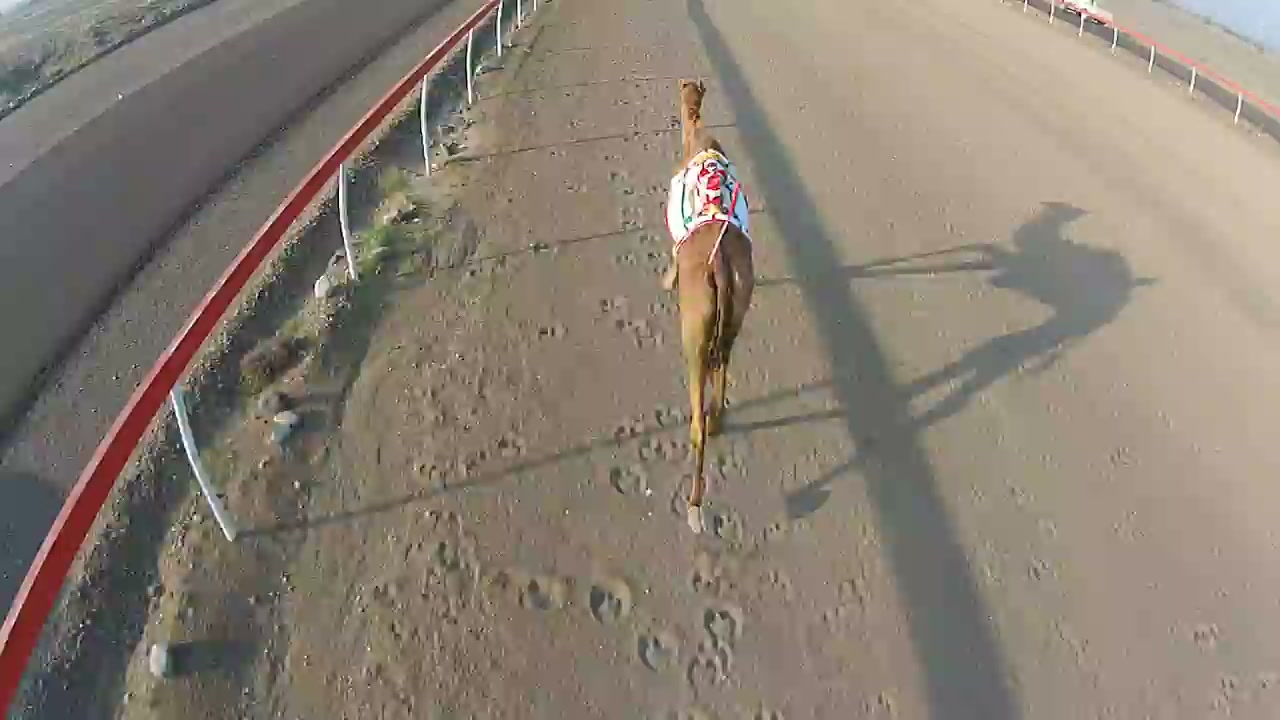animal_footprint: (517, 167, 764, 691)
